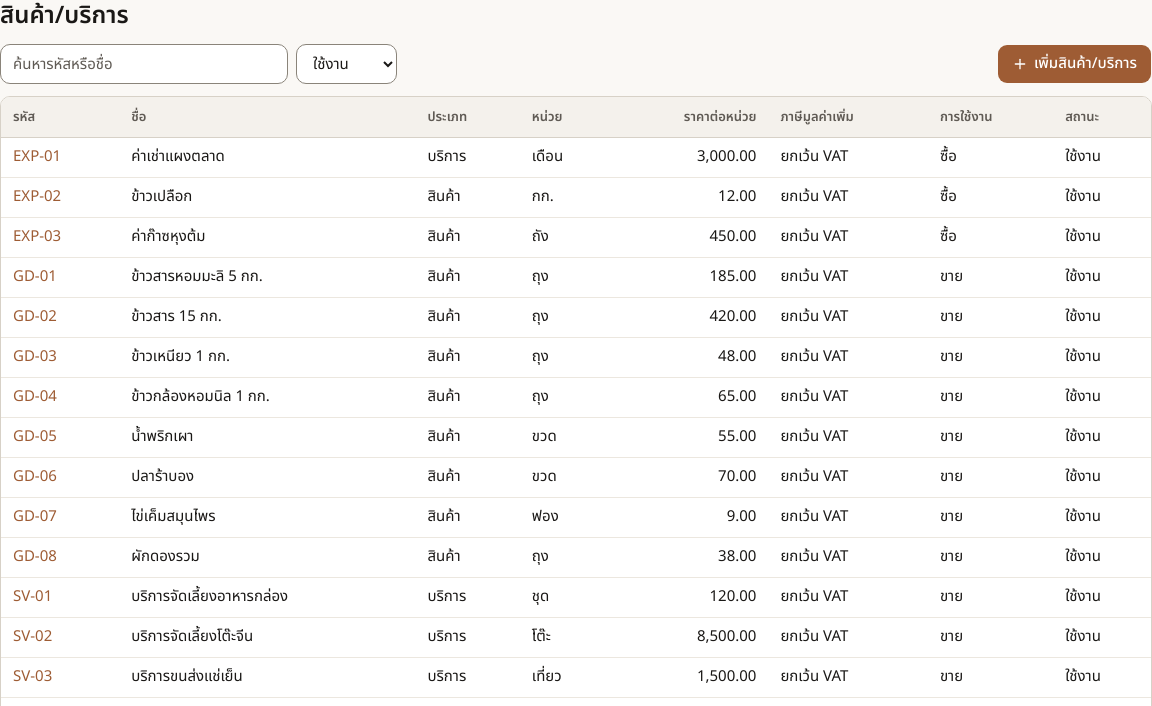
Test case: item list and form (a record kind with no detail page) › non-VAT company: the VAT field is absent from the form and the item is stored EX
Click the button "เพิ่มสินค้า/บริการ".
click(1074, 64)  # box [997,44,1151,84]
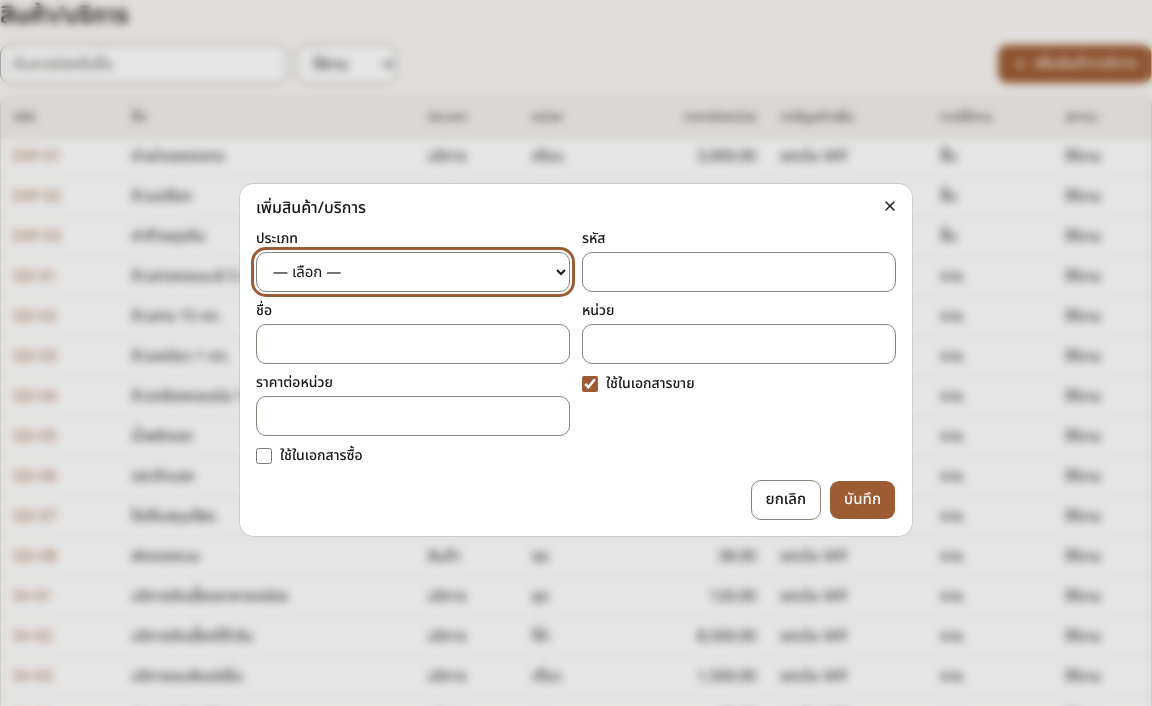
Select "สินค้า" in the dropdown labelled "ประเภท" at (413, 272), box [256,252,570,292]
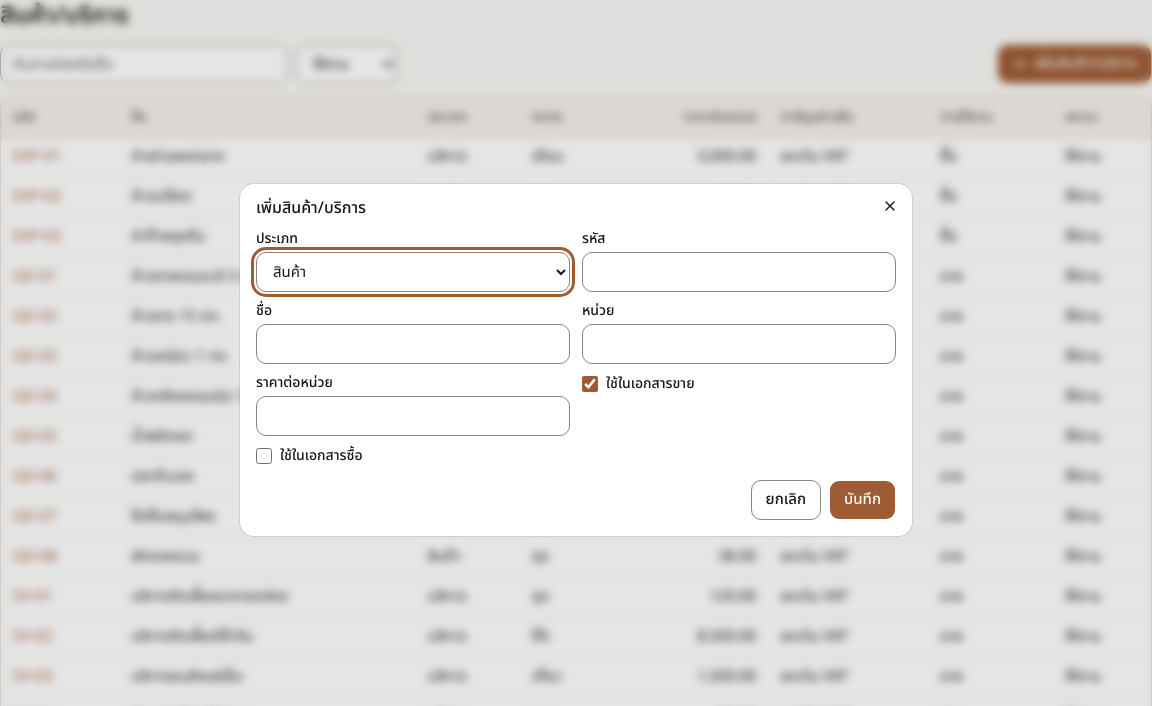
Type "NV-9" into the field labelled "รหัส".
click(739, 272); type("NV-9")  # box [582,252,896,292]
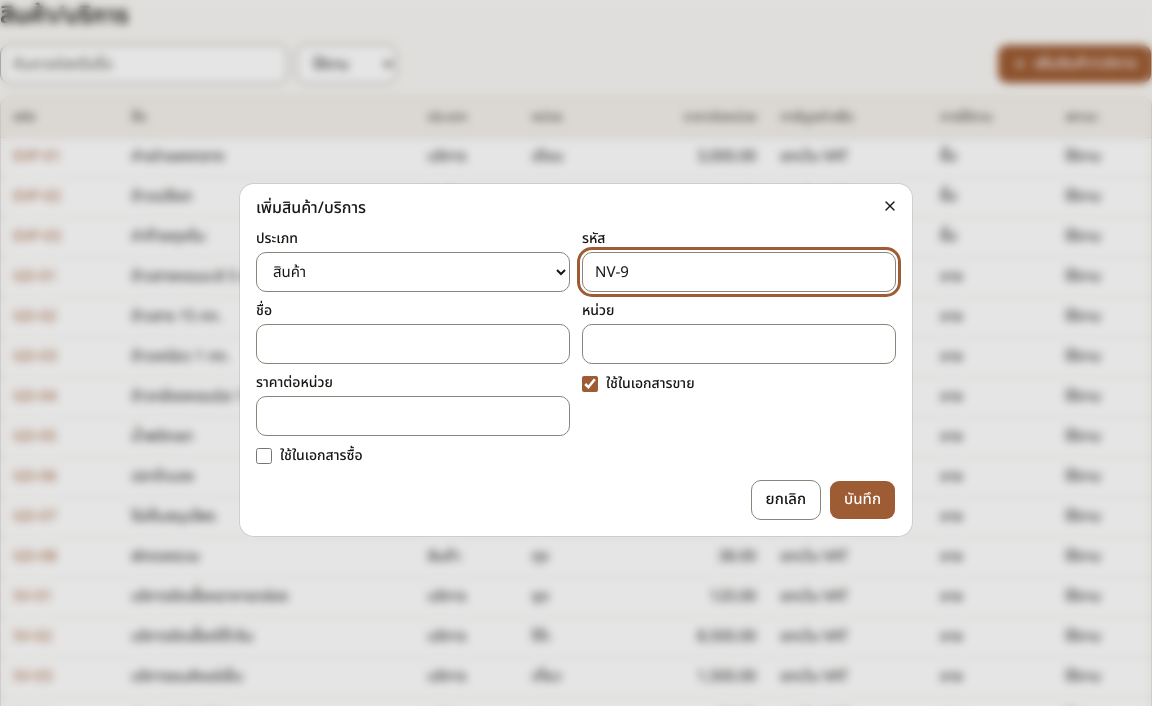
Type "ข้าวทดสอบ" into the field labelled "ชื่อ".
click(413, 344); type("ข้าวทดสอบ")  # box [256,324,570,364]
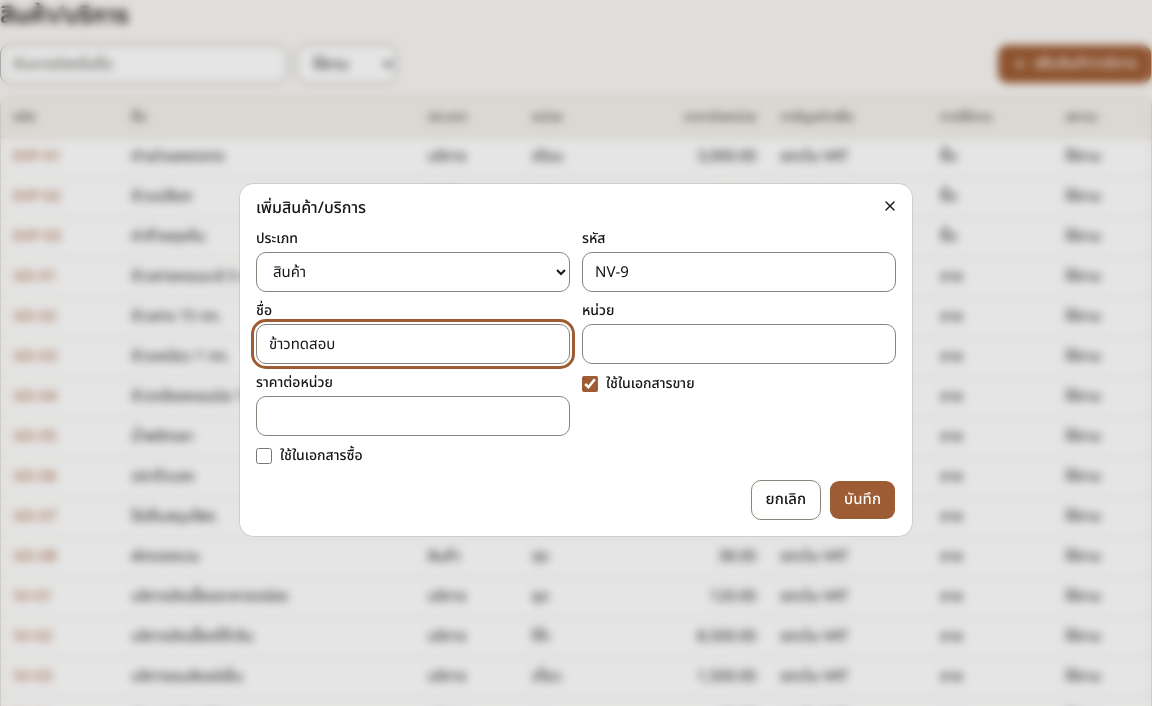
Type "ถุง" into the field labelled "หน่วย".
click(739, 344); type("ถุง")  # box [582,324,896,364]
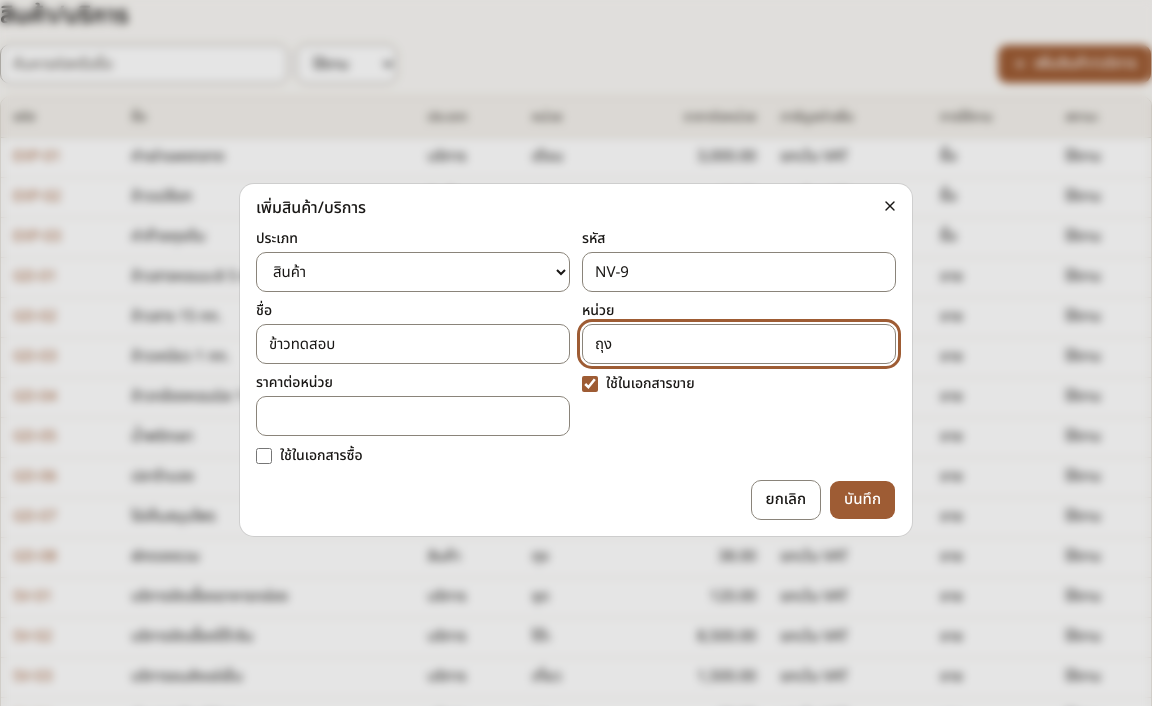
Click the button "บันทึก".
click(863, 500)  # box [829,480,896,520]
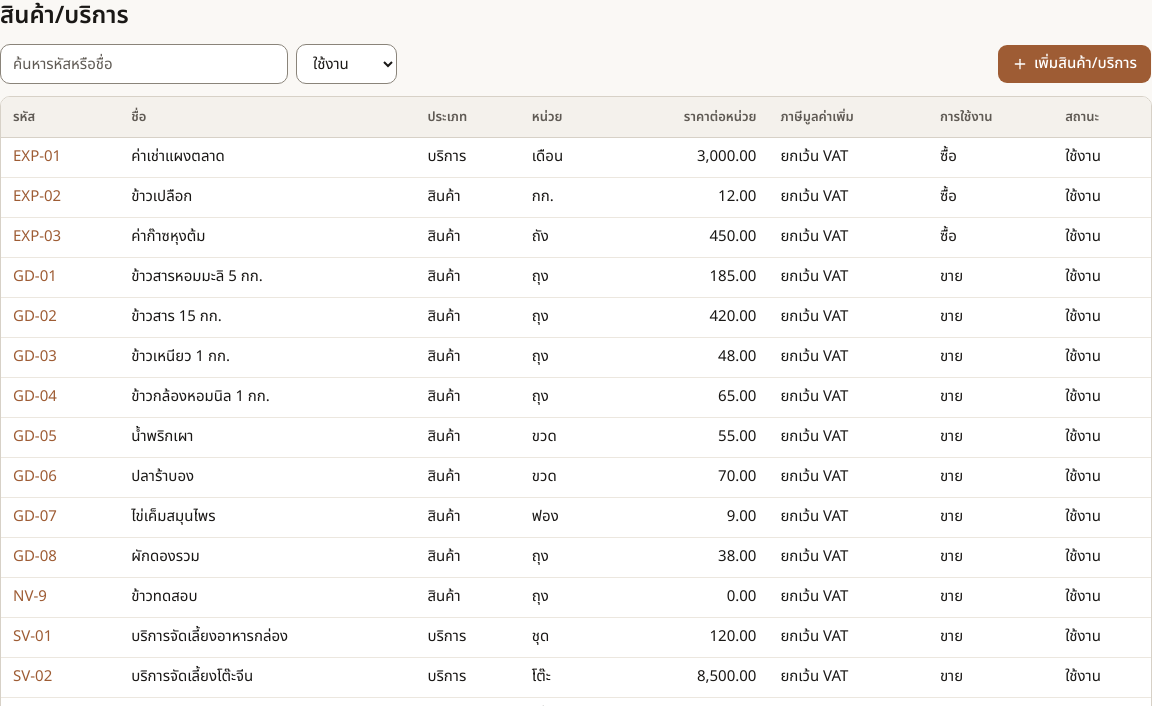
Expected: the dialog is gone
